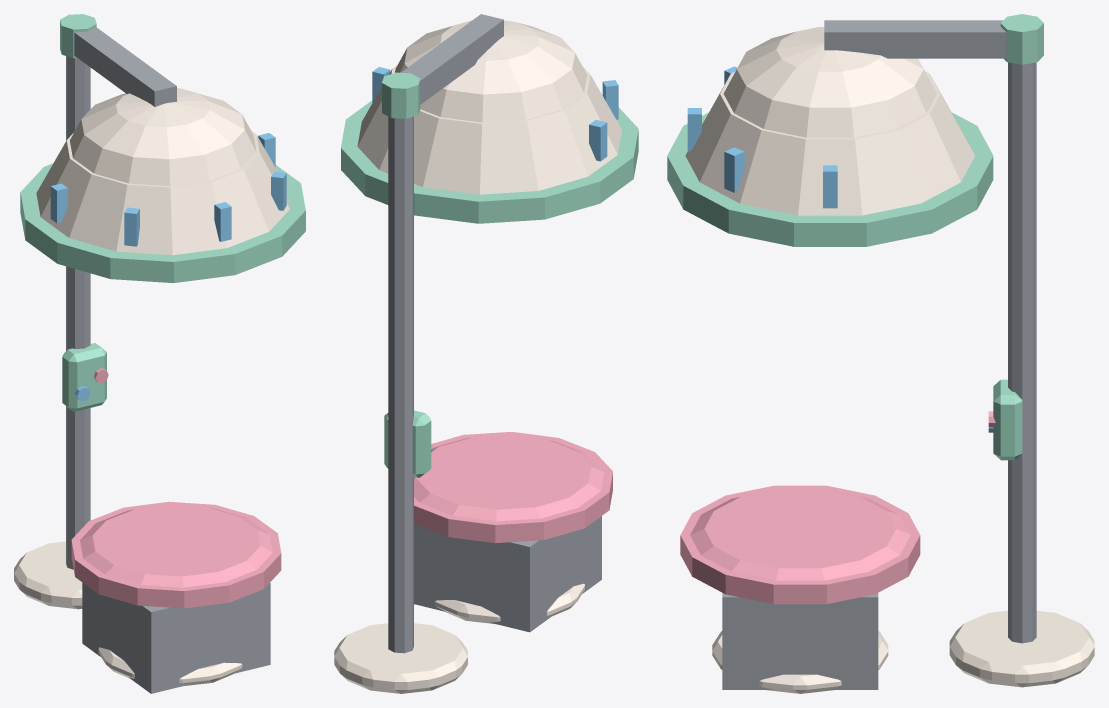
File: CleanACat_Station_Dryer.fbx
The picture shows the model from 3 angles, left to right: view 1: azimuth 30°, elevation 25°; view 2: azimuth 150°, elevation 25°; view 3: azimuth 270°, elevation 25°; orthographic projection. The views are drawn at different scales.
Parts seen in each view (by area): view 1: CleanACat_Station_Dryer, CleanACat_Station_Dryer_Barrier; view 2: CleanACat_Station_Dryer, CleanACat_Station_Dryer_Barrier; view 3: CleanACat_Station_Dryer, CleanACat_Station_Dryer_Barrier.
Boxes of the visible parts, bbox=[...] form: CleanACat_Station_Dryer: bbox=[14, 14, 305, 685]; CleanACat_Station_Dryer_Barrier: bbox=[82, 582, 270, 693]; CleanACat_Station_Dryer: bbox=[334, 14, 638, 693]; CleanACat_Station_Dryer_Barrier: bbox=[414, 516, 601, 632]; CleanACat_Station_Dryer: bbox=[667, 14, 1094, 693]; CleanACat_Station_Dryer_Barrier: bbox=[722, 593, 878, 689].
Bounding box in the file's own units: 2.65 × 5.85 × 3.56.
Materials: 1 (1 with a texture image).
